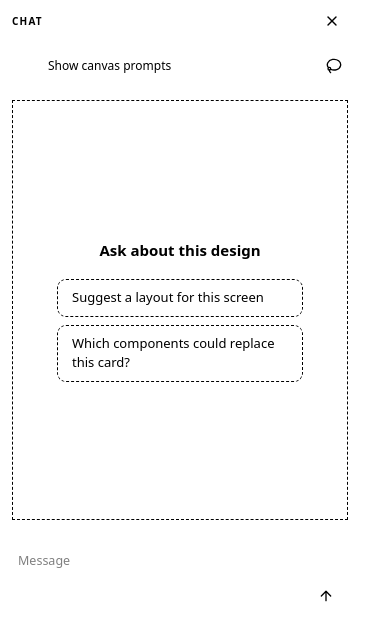
ChatPanel › persists the conversation to localStorage keyed by file id
The width and height of the screenshot is (365, 629).
Type "Remember me" into the text box labelled "Message" at x=161, y=580, box [18,548,304,612]
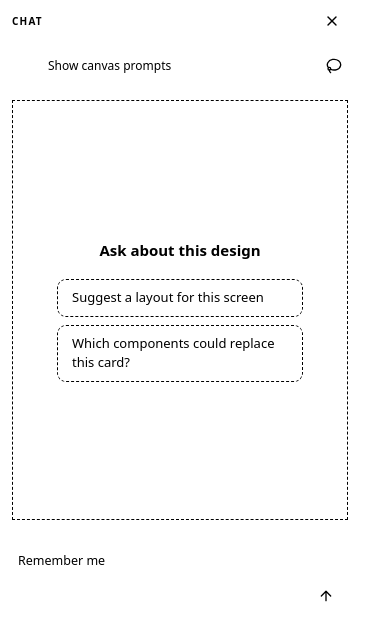
Press Enter
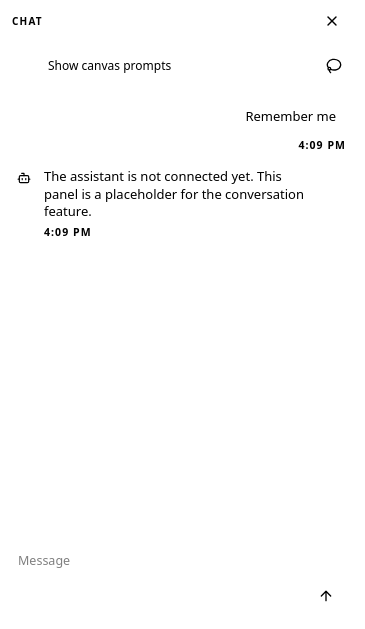
Now the text "The assistant is not connected yet. This panel is a placeholder for the conversation feature." is shown, box [44,167,307,220]
